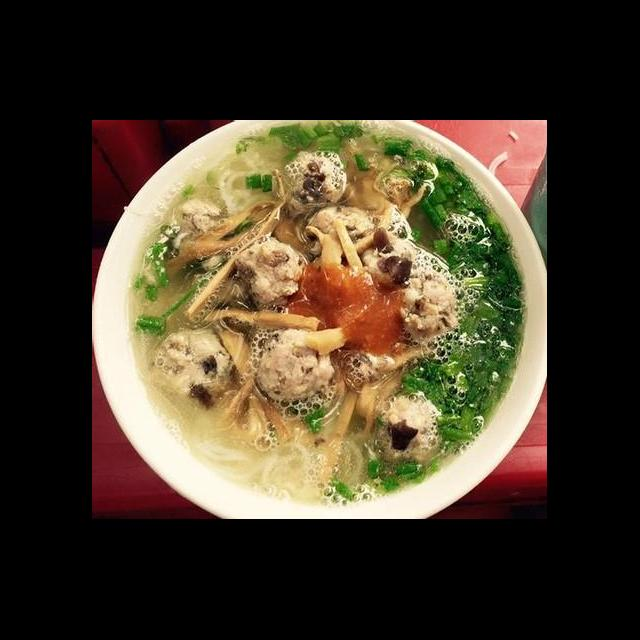bun: (192, 432, 316, 506)
vien moc: (252, 322, 340, 412), (148, 326, 242, 410), (388, 262, 464, 356), (370, 394, 450, 469), (230, 234, 308, 310), (302, 200, 381, 268), (278, 148, 358, 214)
